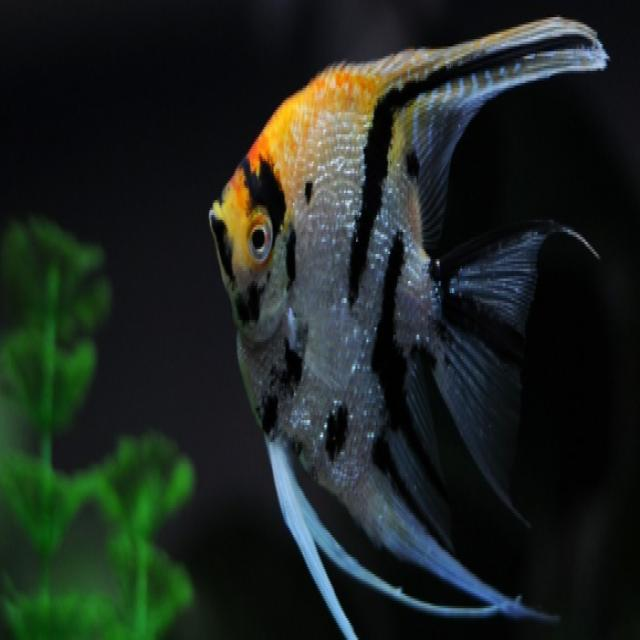AngelFish: (205, 21, 608, 612)
